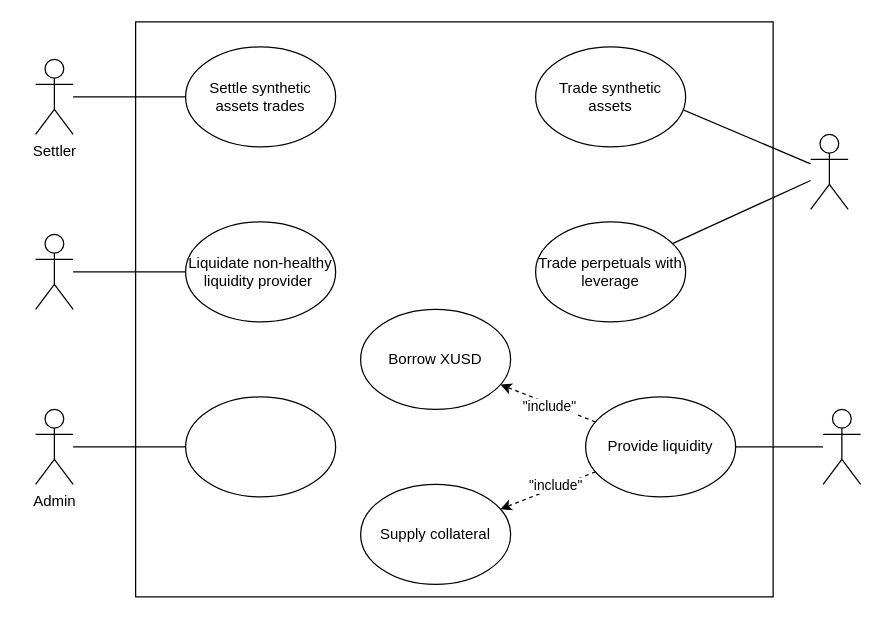
Some shapes in this 891 by 619 pixel diagram are drawn without their labels. The shapes that lost their labels are listed below. From the top down, each one's centre as x and y in pixels, then its label:
At point (828, 171): "Trader".
At point (53, 271): "Liquidator".
At point (260, 446): "Set configuration".
At point (841, 446): "Liquidity Provider".
